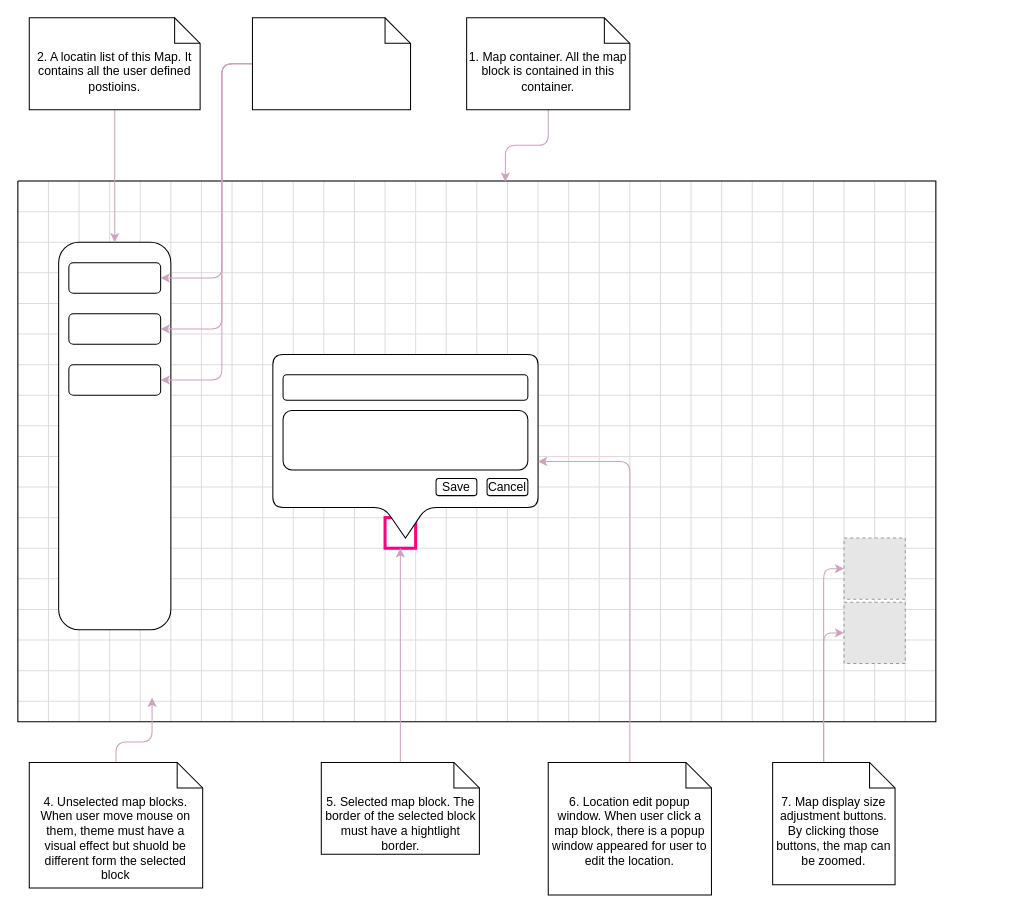
Some shapes in this 1025 by 913 pixel diagram are drawn without their labels. Grey dashed boxes stand in for pictures. The centre of each missing label's shape, as x and y in pixels:
"3. Location Items. It shows the name and description preview of a position." goes at point (331, 63).
"Edit Location Name" goes at point (405, 387).
"Upload File(Image or Video)" goes at point (405, 440).
